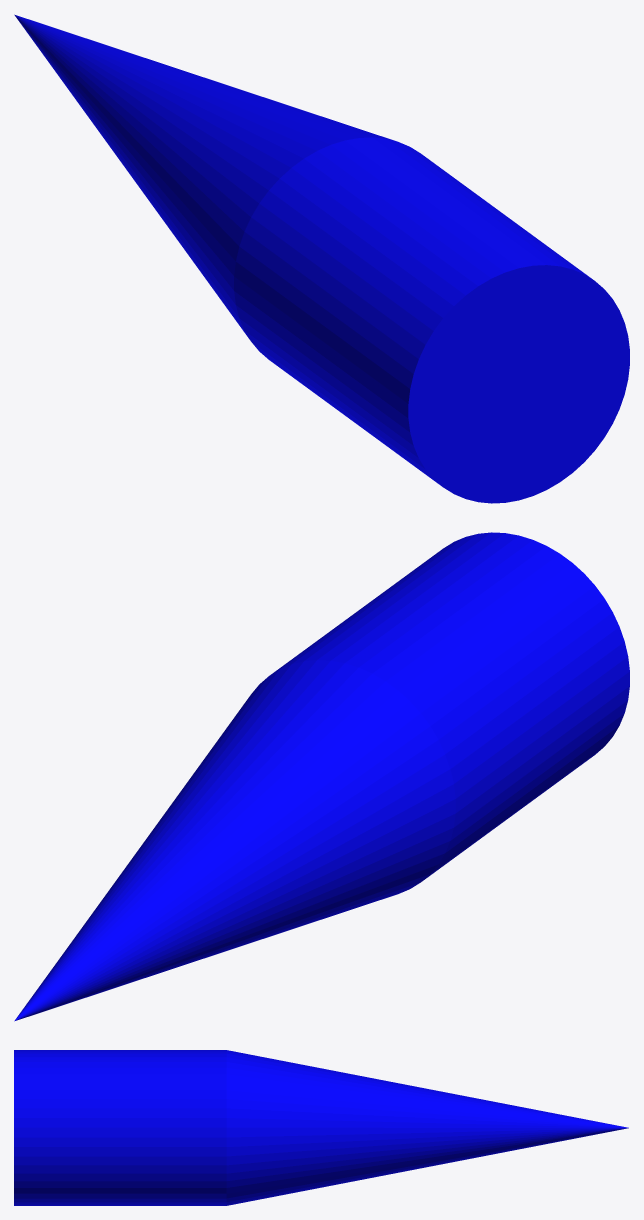
File: dart2.obj
The picture shows the model from 3 angles, top to bottom: view 1: azimuth 30°, elevation 25°; view 2: azimuth 150°, elevation 25°; view 3: azimuth 270°, elevation 25°; orthographic projection. The views are drawn at different scales.
Parts seen in each view (by area): view 1: Cylinder; view 2: Cylinder; view 3: Cylinder.
Part boxes in pixels (x1,y1,x2,y2): Cylinder: (14,14,629,503); Cylinder: (14,532,629,1021); Cylinder: (14,1050,628,1205).
Size of the model in its own units: 0.0349 by 0.035 by 0.138.
